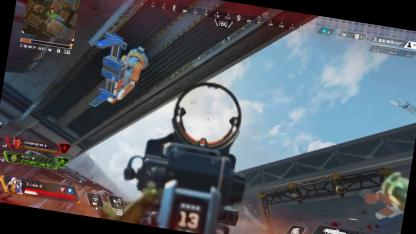Target: (206, 114, 210, 121)
